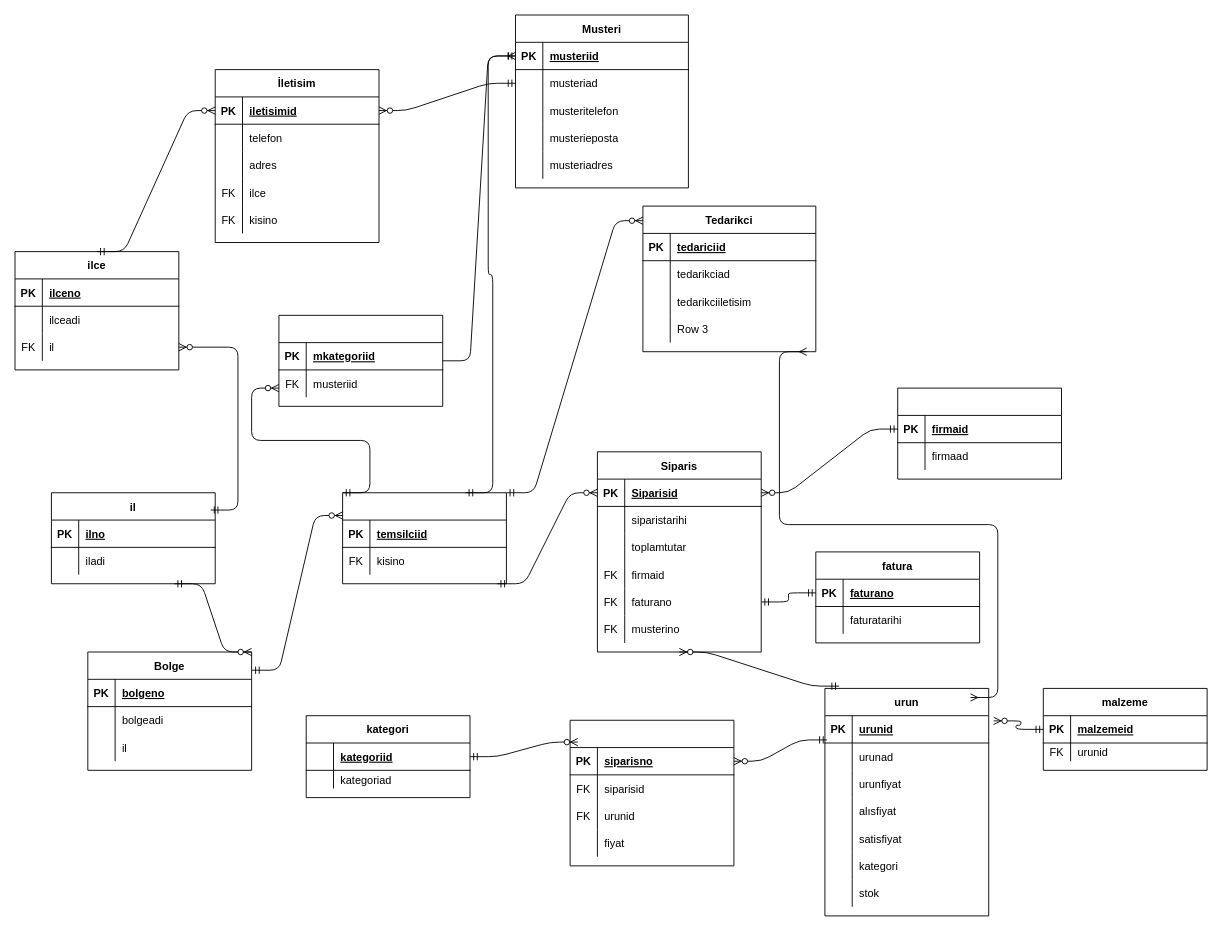
The diagram is 1222 pixels wide and 931 high, and some of its shapes have lost their labels. The box of each missing label's shape, as (x1, y1, x2, y2) in pixels:
kargofirmasi: (897, 387, 1062, 479)
musterikategori: (278, 314, 443, 406)
satistemsilcisi: (342, 492, 506, 584)
siparisurun: (569, 719, 734, 866)
